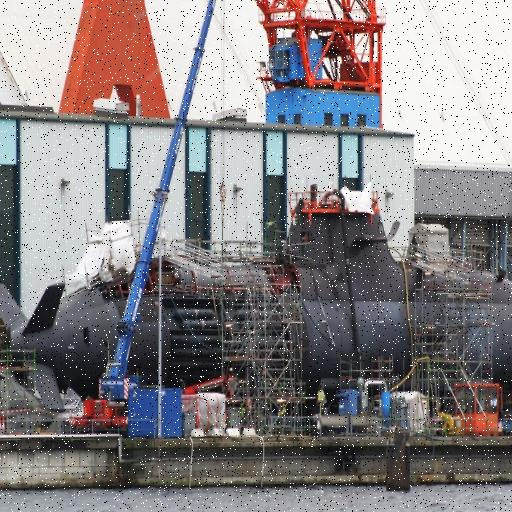submarine: (1, 216, 512, 406)
